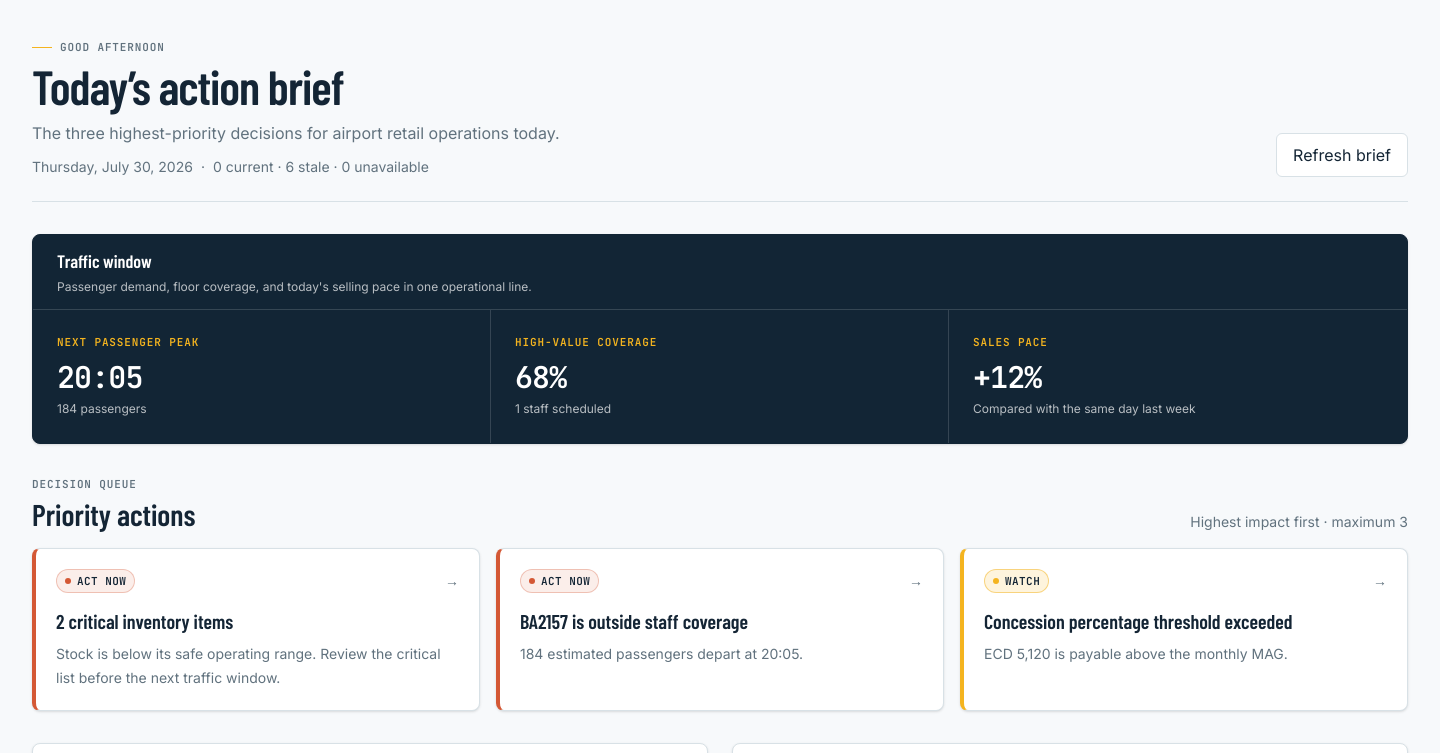
Test: daily action brief › retains last successful domain data and timestamp when refresh returns an error
Step 1. Click the button "Refresh brief" → [1342, 155], box [1276,133,1408,177]
(page scrolled)
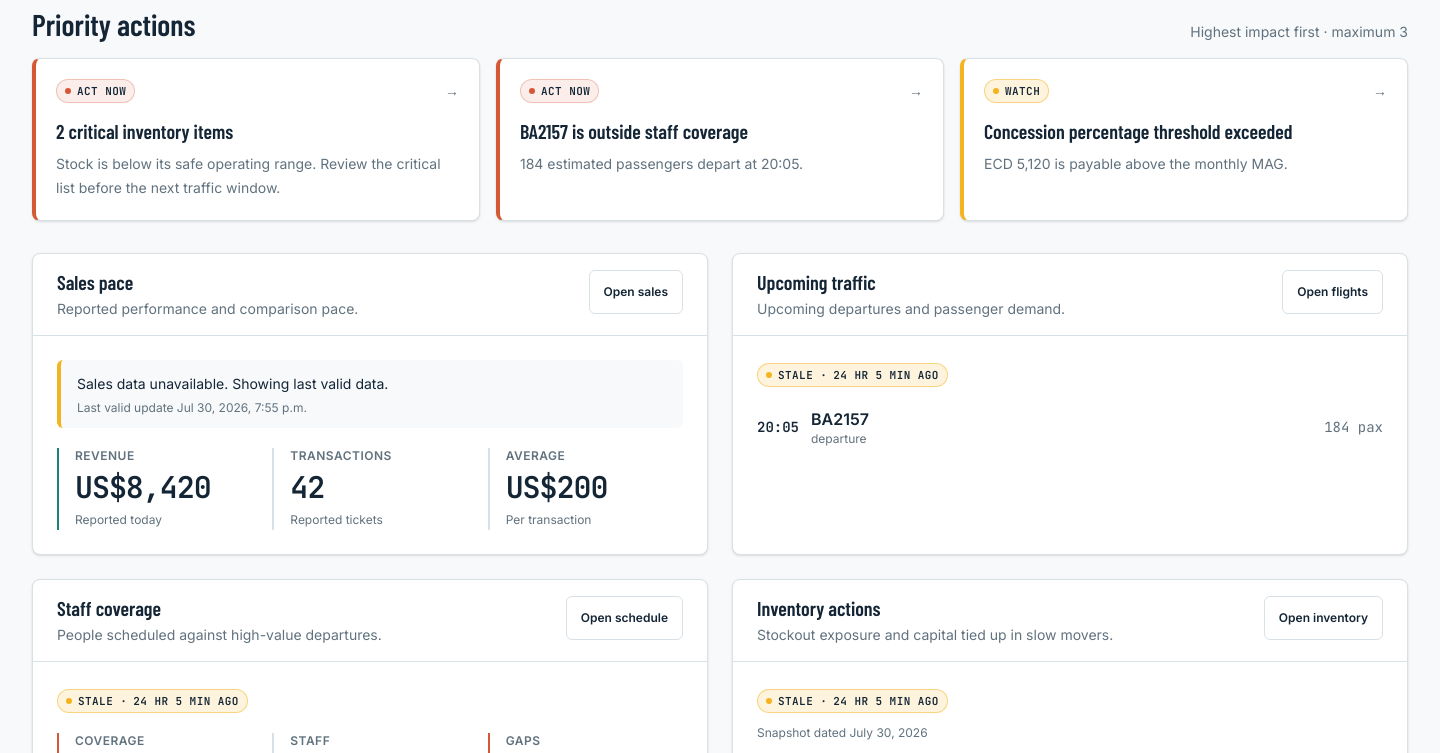
Expected: the element "Sales pace" shows "$8,420", [75,467,211,507]
Expected: the element "Sales pace" shows "Showing last valid data", [224,375,388,392]
